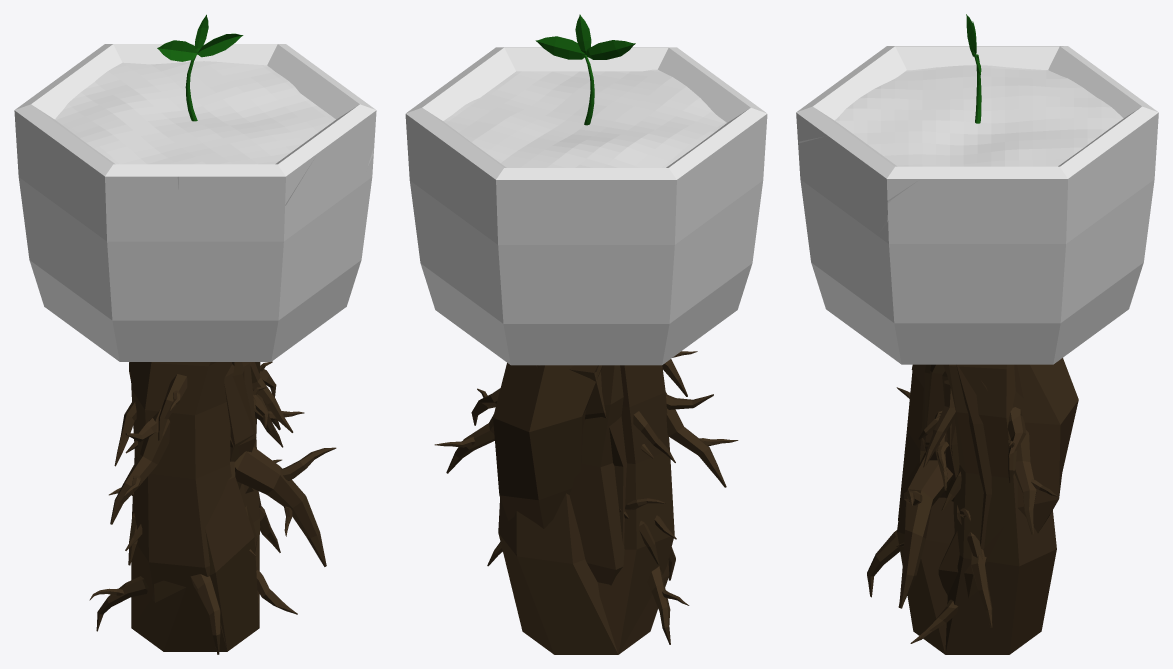
File: Saknis_v1.fbx
3 views of the same model, side by side, from view 1: azimuth 30°, elevation 25°; view 2: azimuth 150°, elevation 25°; view 3: azimuth 270°, elevation 25° (orthographic).
Visible parts, largest first — view 1: Pot.1, Pot.2, R2.001, Pot.0, R2.002, R0.002, Plant, R2.003, R0.001, R1.002, R1.003; view 2: Pot.1, R2.003, R1.002, Pot.2, R2.001, R1.003, R2.002, Plant; view 3: Pot.1, Pot.2, R2.003, R1.002, Pot.0, R2.002, R2.001, R1.001, R0.002, R0.001, Plant.
Boxes of the visible parts, x1,y1,x2,y2 form: Pot.1: (14,44,376,361); Pot.2: (15,44,375,361); R2.001: (110,362,281,654); Pot.0: (105,106,375,351); R2.002: (89,374,336,651); R0.002: (224,362,293,486); Plant: (157,14,243,121); R2.003: (109,362,280,627); R0.001: (230,362,304,489); R1.002: (245,361,297,614); R1.003: (114,362,269,556); Pot.1: (405,47,767,365); R2.003: (434,394,713,654); R1.002: (471,363,602,528); Pot.2: (405,49,767,362); R2.001: (597,365,738,654); R1.003: (569,365,675,585); R2.002: (536,351,697,654); Plant: (535,14,635,125); Pot.1: (796,46,1158,364); Pot.2: (796,48,1156,364); R2.003: (943,364,1058,654); R1.002: (910,358,1078,643); Pot.0: (796,114,900,362); R2.002: (896,367,954,654); R2.001: (867,364,982,597); R1.001: (956,364,1023,627); R0.002: (921,364,959,501); R0.001: (923,364,957,497); Plant: (966,14,981,123).
Size of the model in its own units: 0.8633 by 0.9969 by 1.86.
